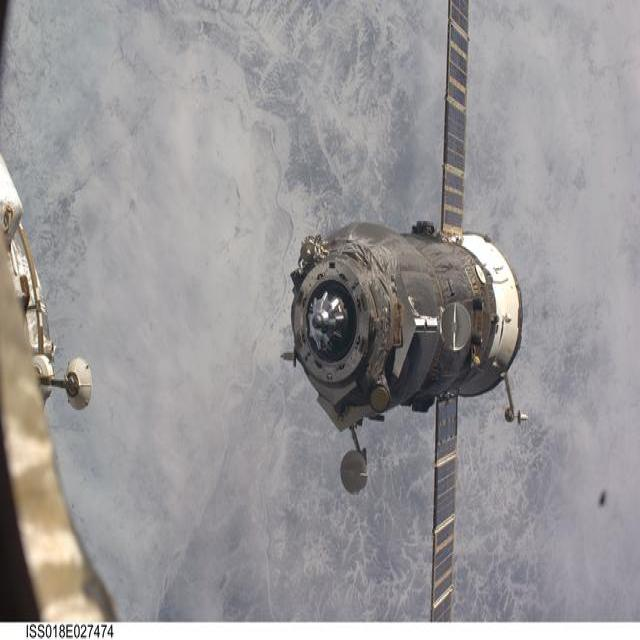medium_debris: (291, 0, 522, 620)
